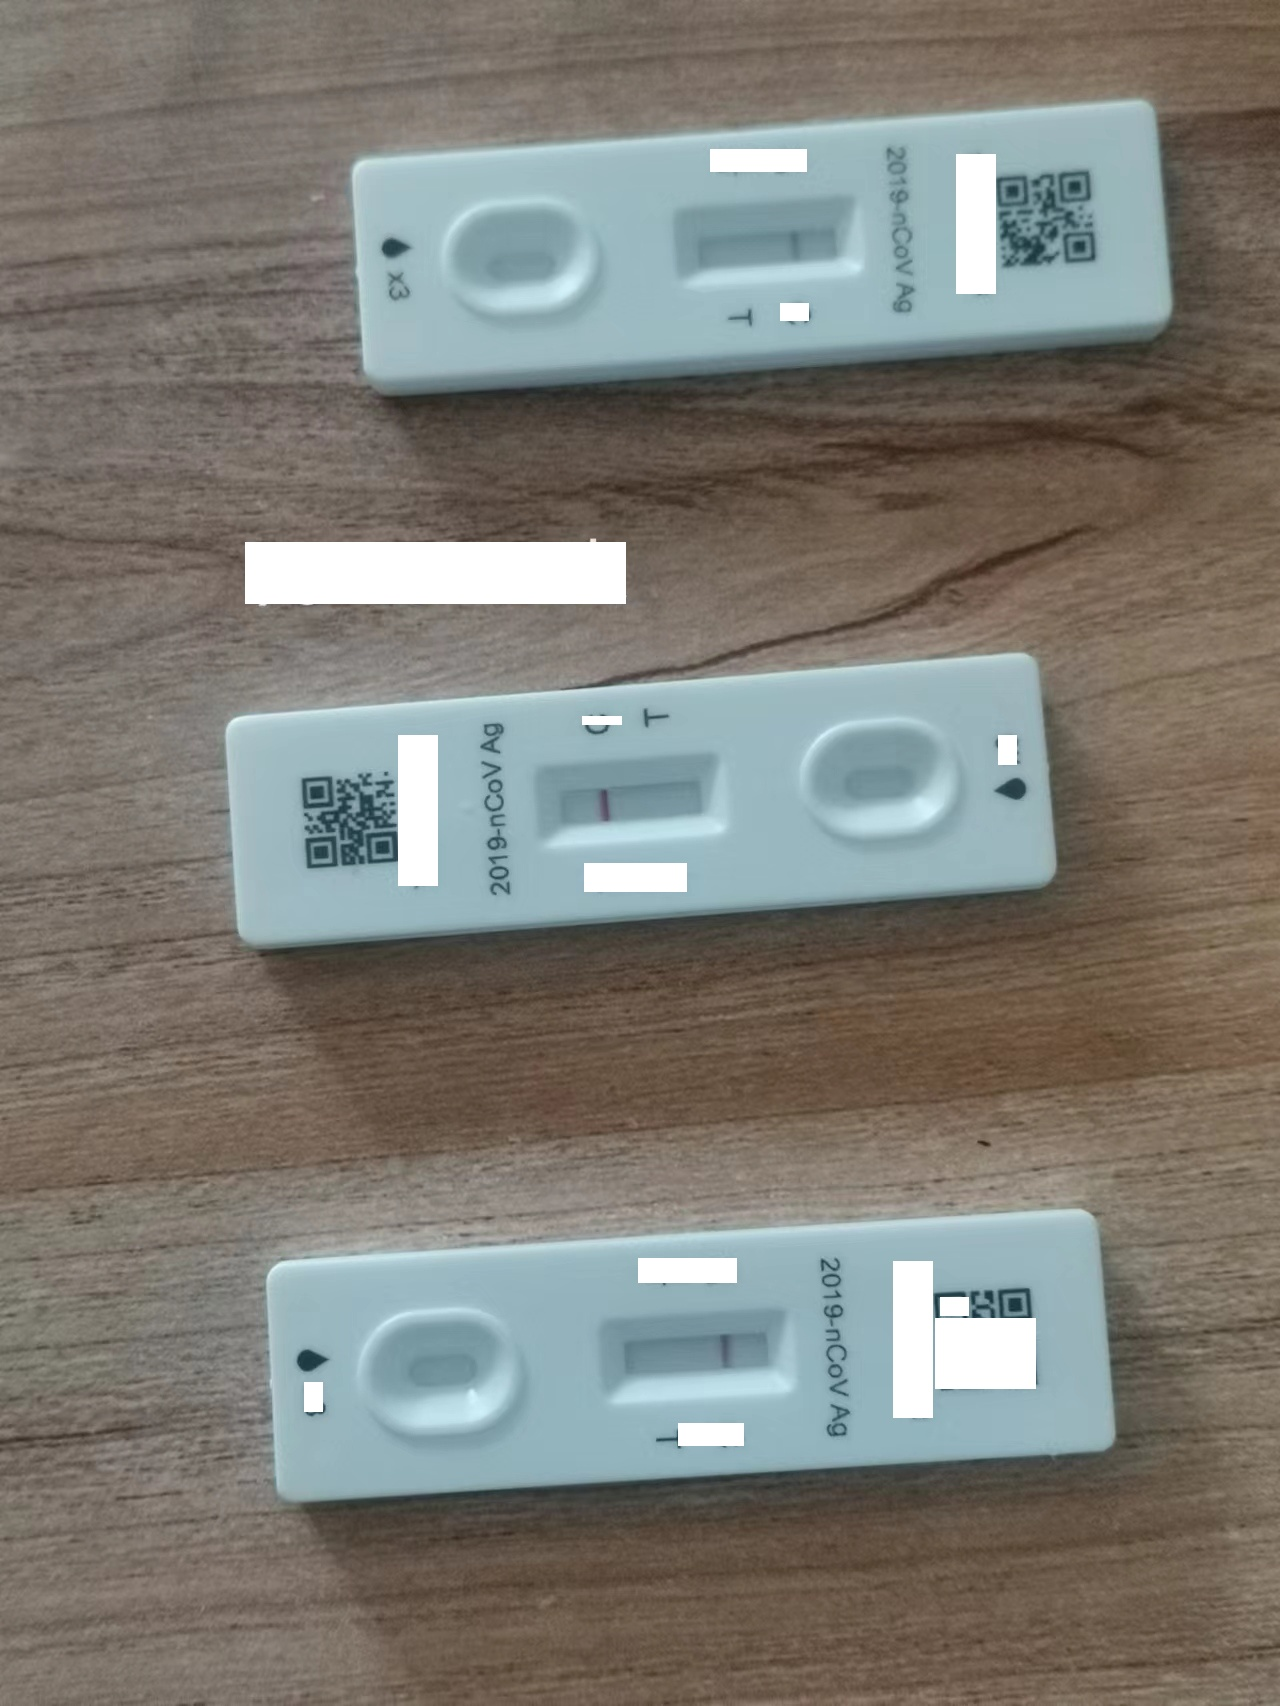negative: (600, 1309, 795, 1395), (532, 756, 722, 843), (675, 198, 866, 284)
